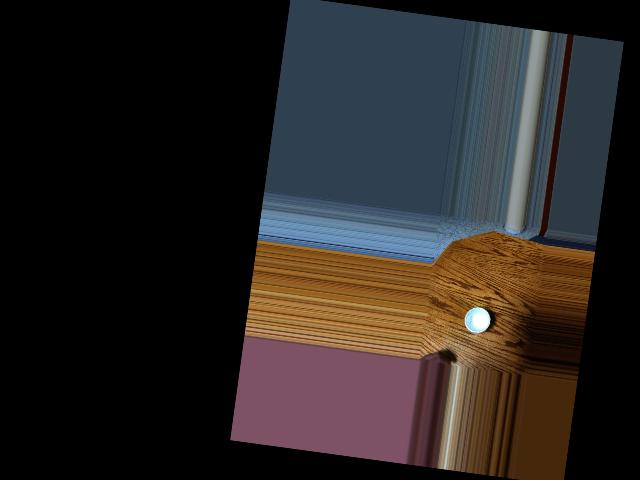cotage: (459, 304, 491, 338)
